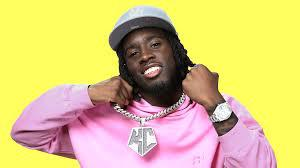kai-cenat: (117, 27, 184, 92)
